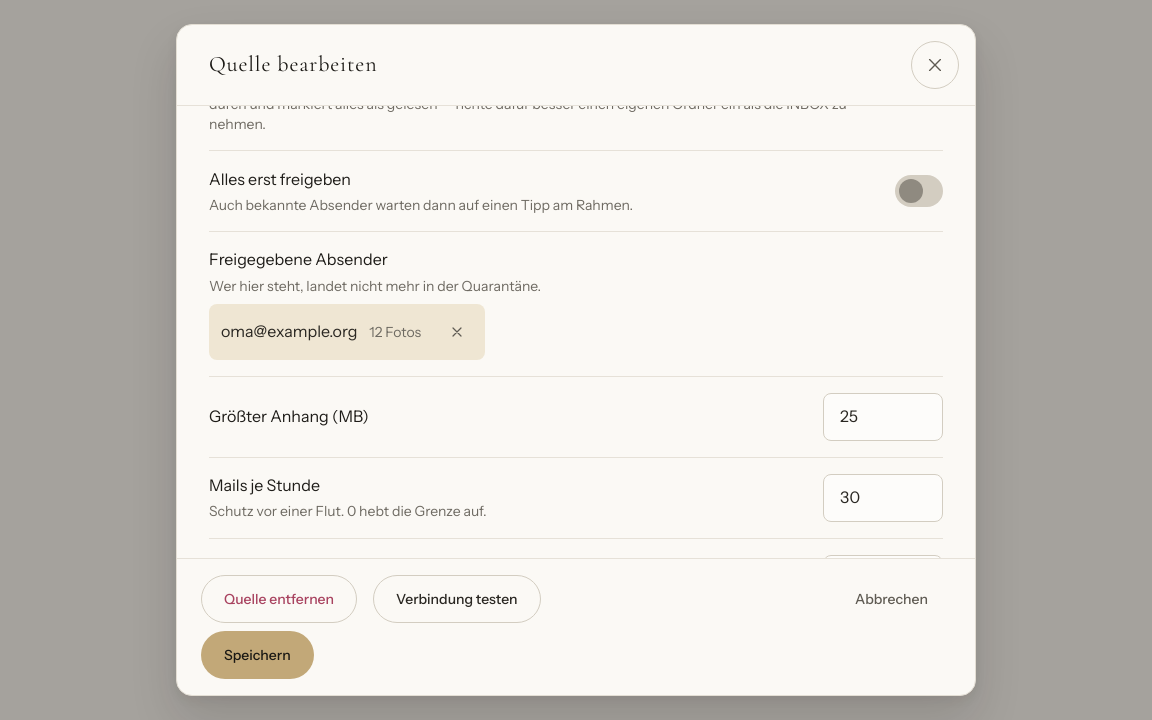
Test: SourceDialog — Felder je Quellenart › fragt vor dem Entfernen nach den vorhandenen Fotos
(page scrolled)
Click the button with class "sender-remove" at (457, 332), box [433, 308, 481, 356]
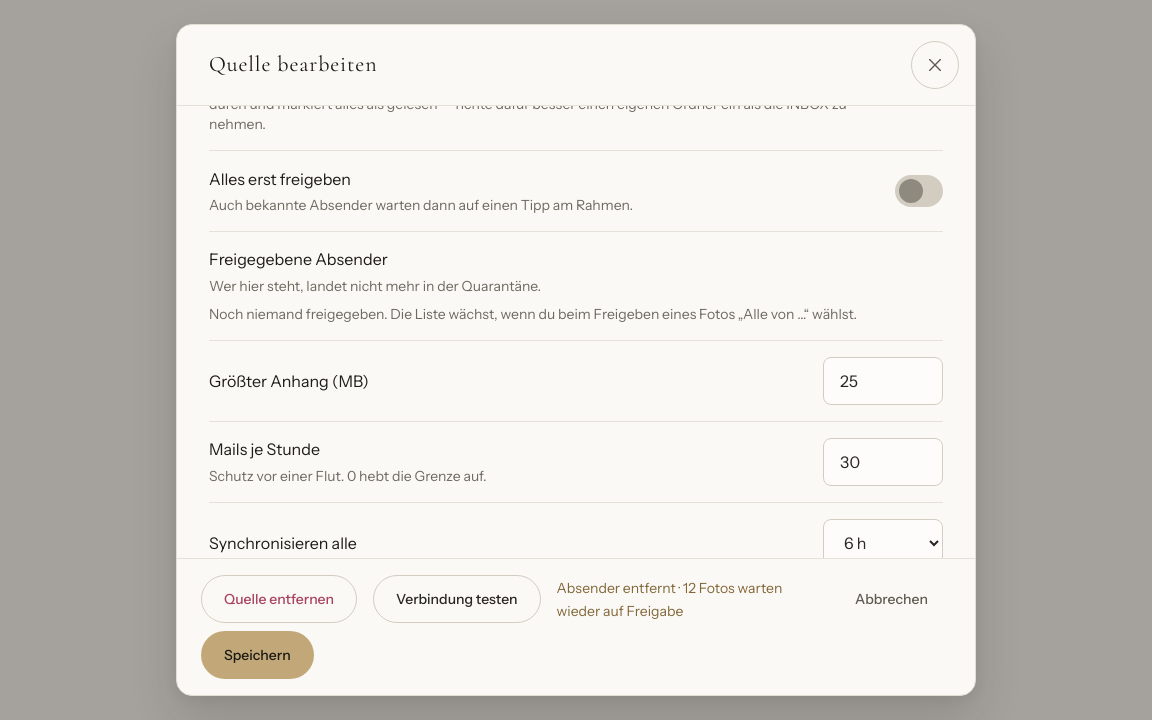
Check: no list items are shown
